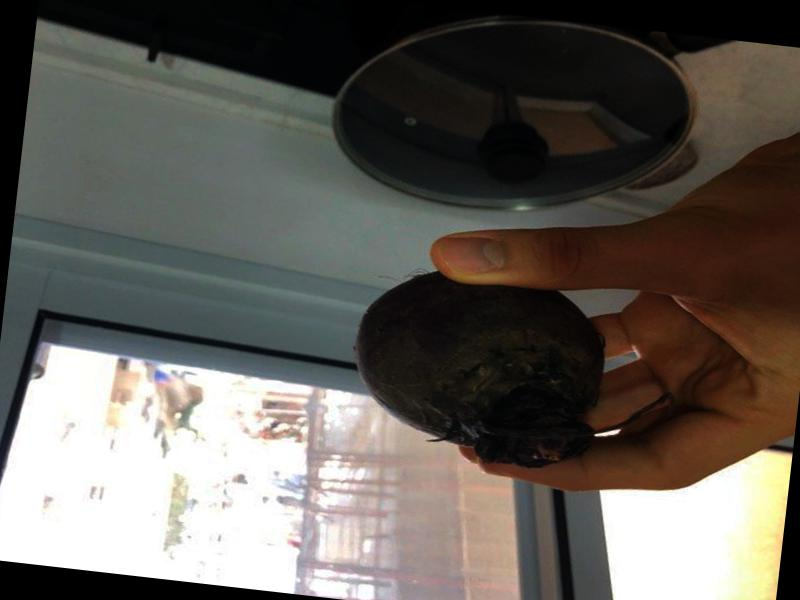Beet: (343, 261, 684, 483)
